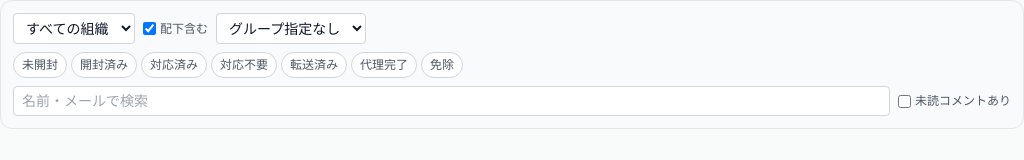
Test: AssigneeListFilters Clear button › clicking clear resets all filters and disappears
This screenshot has width=1024, height=160.
// Set some filters
Type "test" into the field with placeholder "名前・メールで検索". click: (452, 101)
box: [13, 86, 890, 116]
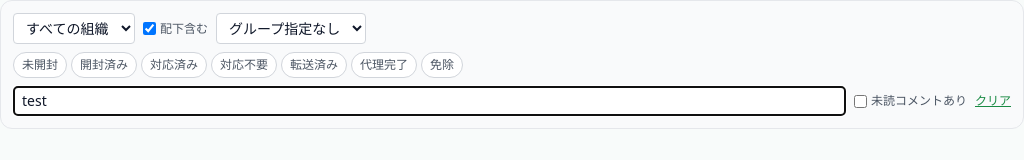
Click the button "対応済み". click: (174, 65)
box: [141, 52, 207, 78]
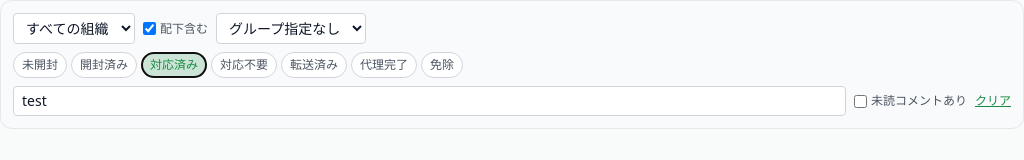
Result: the button "クリア" is shown
// Click clear
Click the button "クリア". click: (993, 101)
box: [975, 93, 1011, 109]
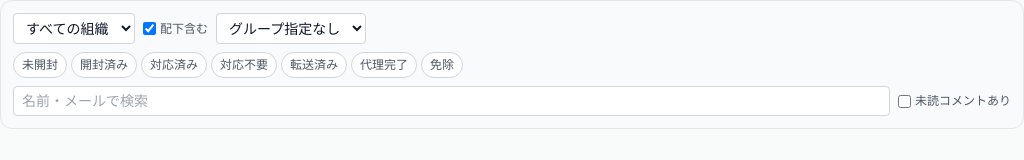
Result: the field with placeholder "名前・メールで検索" is empty at [13, 86, 890, 116]
Result: the button "クリア" is gone
